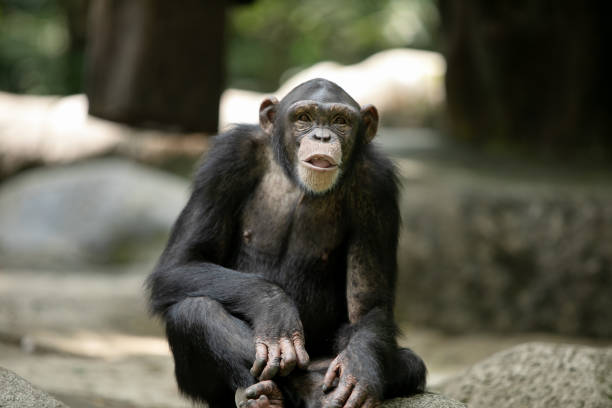chimpanzee: (245, 68, 387, 216)
